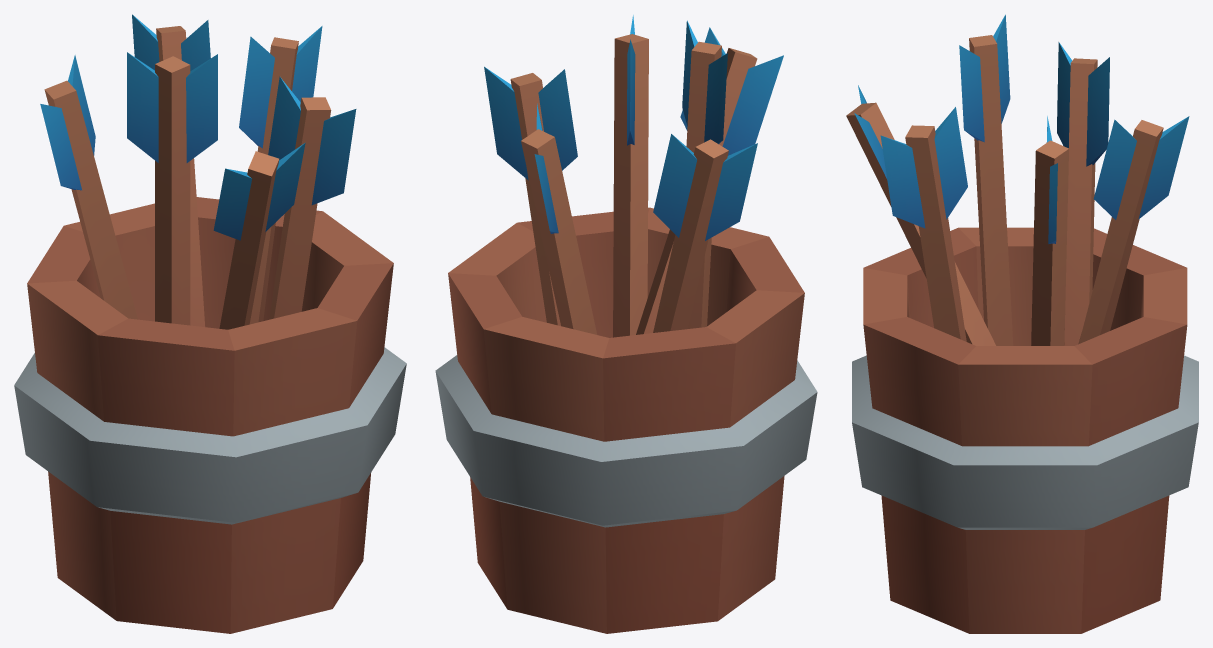
The model's file is cajaFlechas1.glb.
3 views of the same model, side by side, from view 1: azimuth 30°, elevation 25°; view 2: azimuth 150°, elevation 25°; view 3: azimuth 270°, elevation 25° (orthographic). The views are drawn at different scales.
Visible parts, largest first — view 1: bucket_arrows; view 2: bucket_arrows; view 3: bucket_arrows.
Part boxes in pixels (box(x1,y1,x2,y2)): bucket_arrows: box(14, 14, 406, 633); bucket_arrows: box(435, 15, 817, 633); bucket_arrows: box(846, 14, 1198, 633).
Bounding box in the file's own units: 0.14 × 0.2313 × 0.1423.
1 material, 1 textured.
